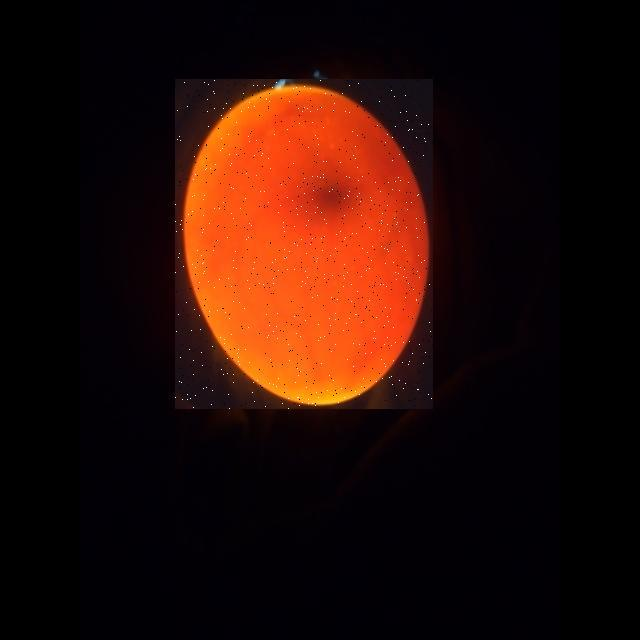Fertile: (175, 79, 433, 409)
